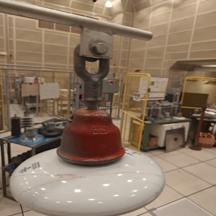insulator: (7, 104, 171, 216)
